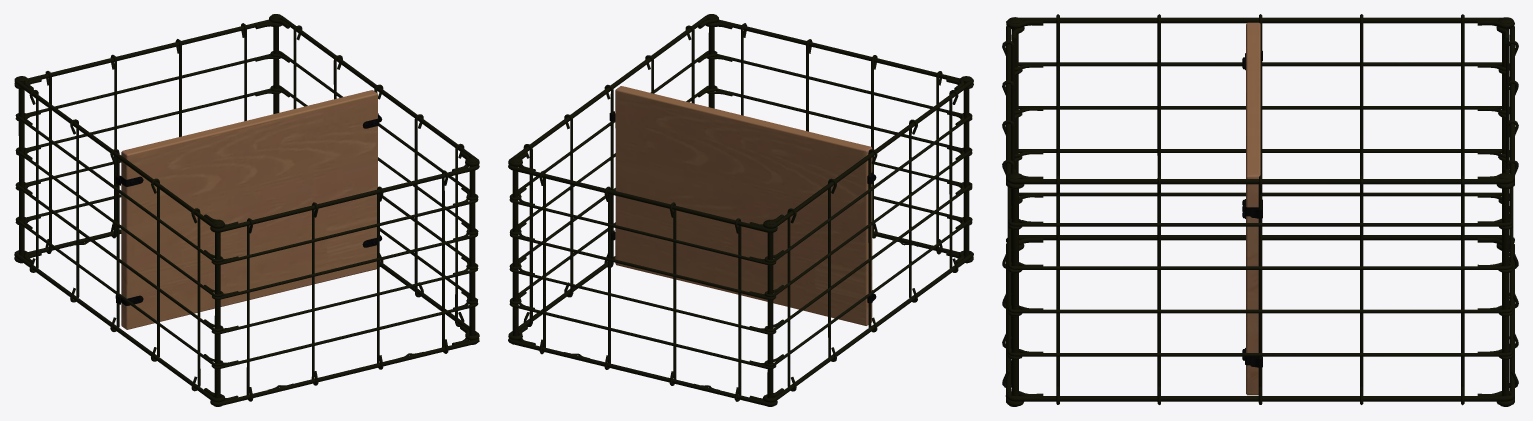
The picture shows the model from 3 angles, left to right: view 1: azimuth 30°, elevation 25°; view 2: azimuth 150°, elevation 25°; view 3: azimuth 270°, elevation 25°; orthographic projection. The views are drawn at different scales.
Visible parts, largest first — view 1: 80417735-GULLHULT001; view 2: 80417735-GULLHULT001; view 3: 80417735-GULLHULT001.
Part boxes in pixels (bbox=[...]): 80417735-GULLHULT001: bbox=[14, 14, 479, 406]; 80417735-GULLHULT001: bbox=[508, 14, 973, 406]; 80417735-GULLHULT001: bbox=[1002, 14, 1518, 406].
Bounding box in the file's own units: 0.3214 × 0.2104 × 0.4215.
Materials: 1 (1 with a texture image).
